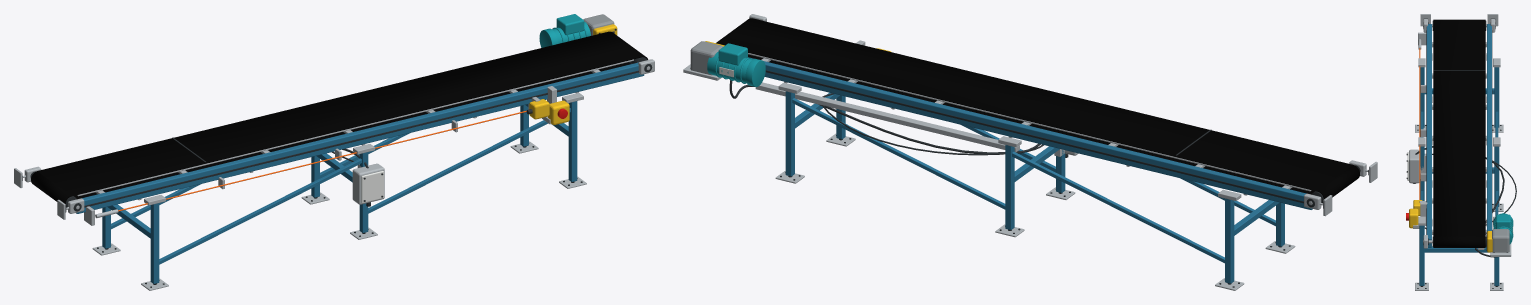
File: indexing_conveyor.glb
3 views of the same model, side by side, from view 1: azimuth 30°, elevation 25°; view 2: azimuth 150°, elevation 25°; view 3: azimuth 270°, elevation 25° (orthographic). The views are drawn at different scales.
Visible parts, largest first — view 1: KIN_belt_surface, FRAME_L_profile, FRAME_L_slot, BRACE_L_A, BED_stainless_slider, BRACE_L_B, LEG_1_L_upright, LEG_3_L_upright, SAFETY_pullcord, CTRL_junction_lid, CTRL_junction_box, DRIVE_terminal_box; view 2: KIN_belt_surface, FRAME_R_profile, CTRL_cable_tray, FRAME_R_slot, BRACE_R_A, BRACE_R_B, BED_stainless_slider, LEG_1_R_upright, LEG_3_R_upright, LEG_2_R_upright, CTRL_power_cable, DRIVE_gearbox (+5 smaller); view 3: KIN_belt_surface, FRAME_L_profile, FRAME_R_profile, DRIVE_gearbox, CTRL_junction_box, LEG_3_L_upright, LEG_1_R_upright, LEG_2_R_upright, LEG_3_crossbar, SAFETY_pullcord, LEG_1_L_upright, CTRL_power_cable (+20 smaller).
Boxes of the visible parts, x1,y1,x2,y2 form: KIN_belt_surface: [31, 31, 648, 209]; FRAME_L_profile: [76, 62, 644, 213]; FRAME_L_slot: [84, 70, 638, 207]; BRACE_L_A: [159, 158, 361, 264]; BED_stainless_slider: [77, 59, 633, 196]; BRACE_L_B: [368, 108, 570, 213]; LEG_1_L_upright: [150, 203, 159, 283]; LEG_3_L_upright: [568, 101, 577, 181]; SAFETY_pullcord: [118, 110, 526, 211]; CTRL_junction_lid: [361, 171, 383, 203]; CTRL_junction_box: [352, 163, 384, 204]; DRIVE_terminal_box: [556, 14, 584, 35]; KIN_belt_surface: [716, 18, 1359, 202]; FRAME_R_profile: [748, 57, 1312, 209]; CTRL_cable_tray: [755, 82, 1019, 152]; FRAME_R_slot: [765, 70, 1303, 203]; BRACE_R_A: [1012, 151, 1224, 263]; BRACE_R_B: [792, 98, 1005, 209]; BED_stainless_slider: [748, 53, 1311, 191]; LEG_1_R_upright: [1225, 198, 1234, 283]; LEG_3_R_upright: [785, 91, 794, 176]; LEG_2_R_upright: [1005, 145, 1014, 229]; CTRL_power_cable: [729, 80, 1040, 153]; DRIVE_gearbox: [690, 41, 723, 75]; KIN_belt_surface: [1433, 19, 1485, 247]; FRAME_L_profile: [1426, 24, 1431, 247]; FRAME_R_profile: [1487, 24, 1491, 231]; DRIVE_gearbox: [1492, 229, 1509, 252]; CTRL_junction_box: [1409, 149, 1419, 183]; LEG_3_L_upright: [1419, 225, 1424, 285]; LEG_1_R_upright: [1494, 67, 1499, 127]; LEG_2_R_upright: [1494, 146, 1499, 206]; LEG_3_crossbar: [1424, 246, 1487, 252]; SAFETY_pullcord: [1419, 48, 1420, 199]; LEG_1_L_upright: [1420, 67, 1424, 127]; CTRL_power_cable: [1415, 146, 1504, 257].
Bounding box in the file's own units: 6.2 × 1.12 × 1.27.
10 materials, 1 textured.
